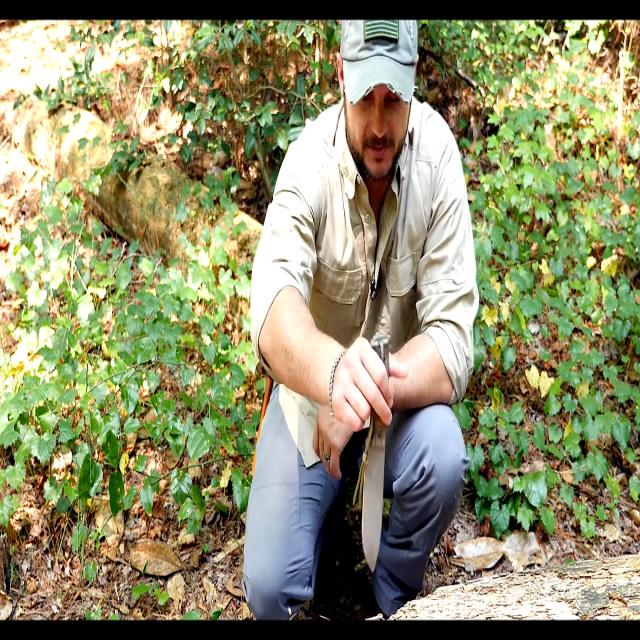knife: (363, 428, 391, 577)
